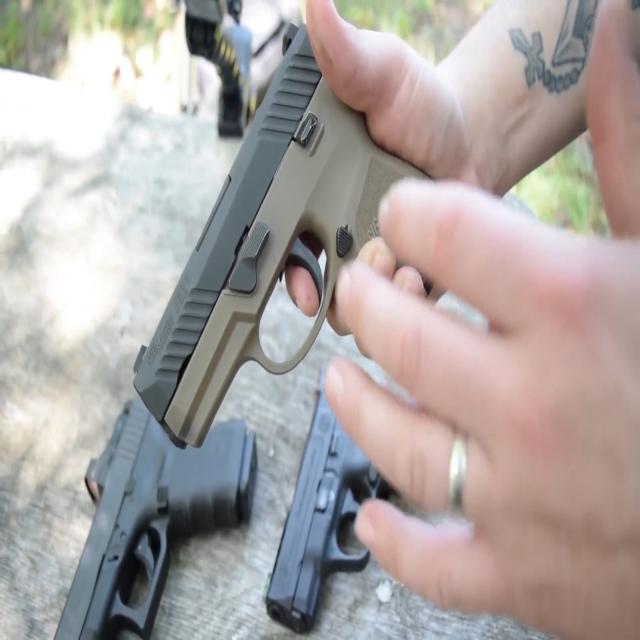handgun: (113, 12, 462, 490), (49, 372, 279, 626), (266, 347, 438, 626)
